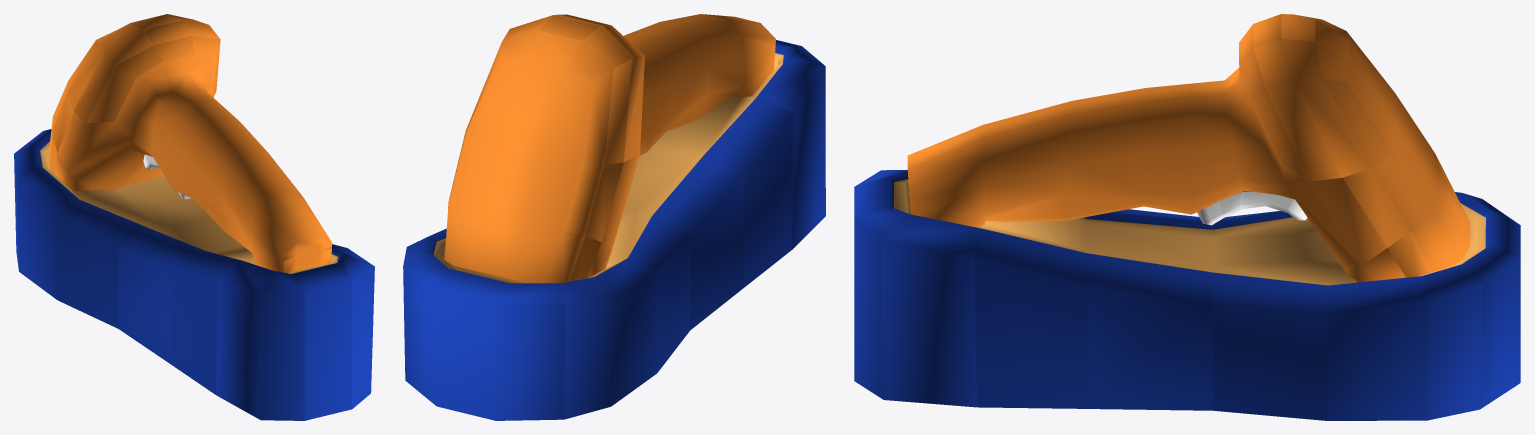
File: Barcode Scanner.fbx
3 views of the same model, side by side, from view 1: azimuth 30°, elevation 25°; view 2: azimuth 150°, elevation 25°; view 3: azimuth 270°, elevation 25° (orthographic). The views are drawn at different scales.
Parts seen in each view (by area): view 1: Node 0, Node 1; view 2: Node 0, Node 1; view 3: Node 0, Node 1.
Boxes of the visible parts, bbox=[...] form: Node 0: bbox=[14, 129, 374, 420]; Node 1: bbox=[49, 14, 332, 273]; Node 0: bbox=[403, 40, 825, 420]; Node 1: bbox=[444, 14, 775, 283]; Node 0: bbox=[854, 170, 1520, 420]; Node 1: bbox=[907, 14, 1470, 282].
Bounding box in the file's own units: 0.1693 × 0.0955 × 0.0656.
